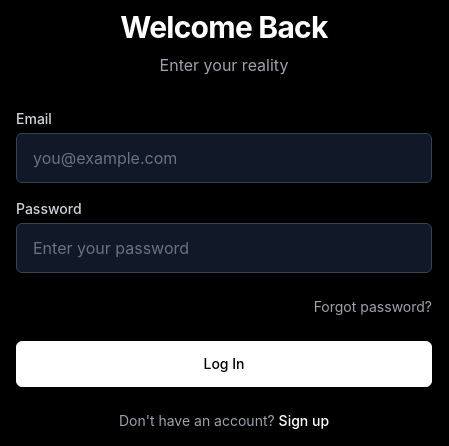
it: LoginPage › disables submit button while loading
Type "test@example.com" into the field labelled "Email" at coordinates (224, 158), box x1=16 y1=133 x2=432 y2=183
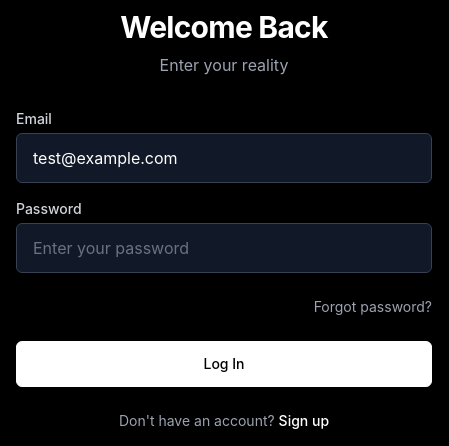
Type "password123" into the password field labelled "Password" at coordinates (224, 248), box x1=16 y1=223 x2=432 y2=273
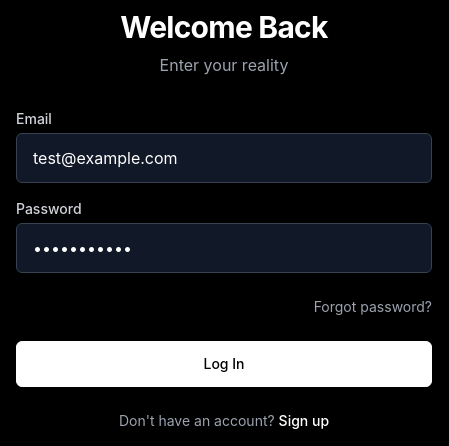
Click the button "Log In" at coordinates (224, 364), box x1=16 y1=341 x2=432 y2=387
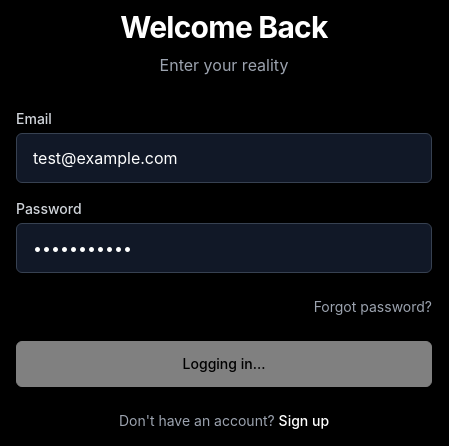
expect the button "Logging in..." is disabled: met, box x1=16 y1=341 x2=432 y2=387
